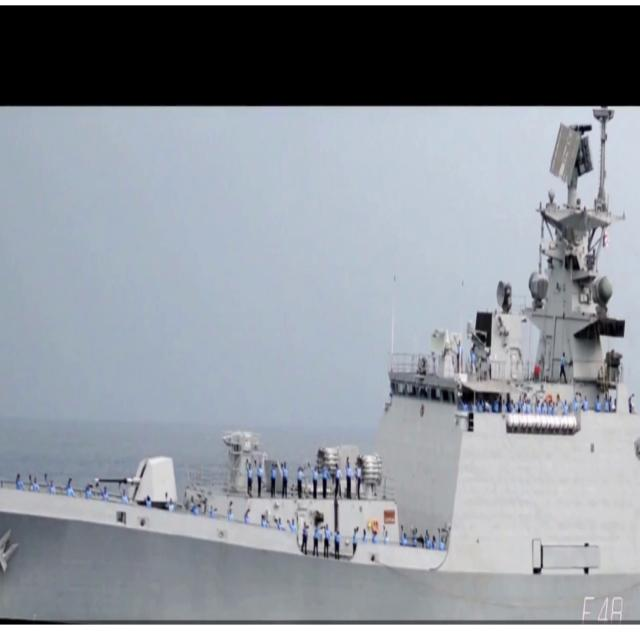OCR: (574, 586, 619, 623)
